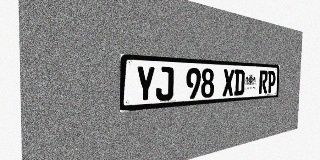8: (201, 68, 215, 98)
9: (186, 67, 201, 99)
D: (234, 69, 245, 96)
J: (156, 66, 174, 101)
P: (267, 71, 276, 93)
R: (259, 70, 268, 94)
X: (222, 69, 234, 96)
Y: (135, 66, 155, 103)
